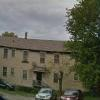Tree: (60, 2, 100, 85)
